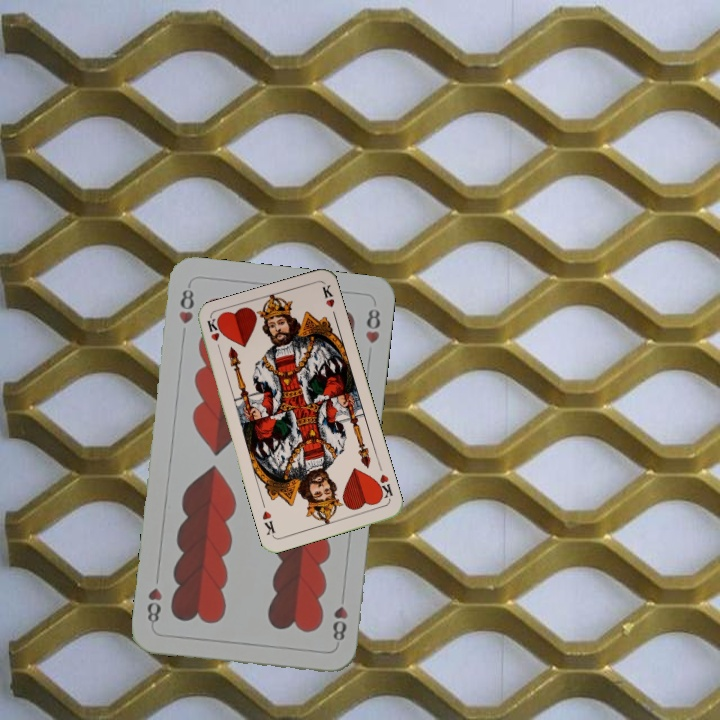H8: (328, 589, 350, 644), (175, 280, 197, 327)
HK: (203, 316, 224, 356), (372, 470, 395, 502)
